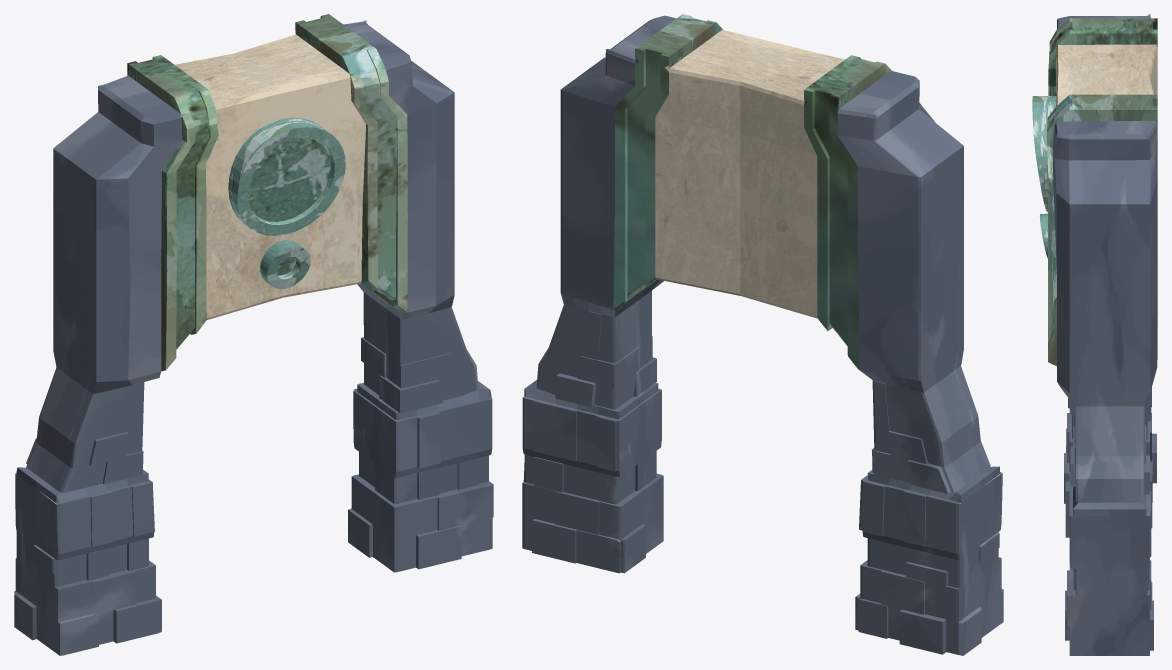
Rendered from Door.fbx.
The picture shows the model from 3 angles, left to right: view 1: azimuth 30°, elevation 25°; view 2: azimuth 150°, elevation 25°; view 3: azimuth 270°, elevation 25°; orthographic projection. The views are drawn at different scales.
Parts seen in each view (by area): view 1: Cube; view 2: Cube; view 3: Cube.
Boxes of the visible parts, x1,y1,x2,y2 form: Cube: [14, 14, 493, 655]; Cube: [522, 14, 1003, 655]; Cube: [1032, 14, 1157, 655].
Bounding box in the file's own units: 10.13 × 11.71 × 2.69.
Materials: 1 (1 with a texture image).
